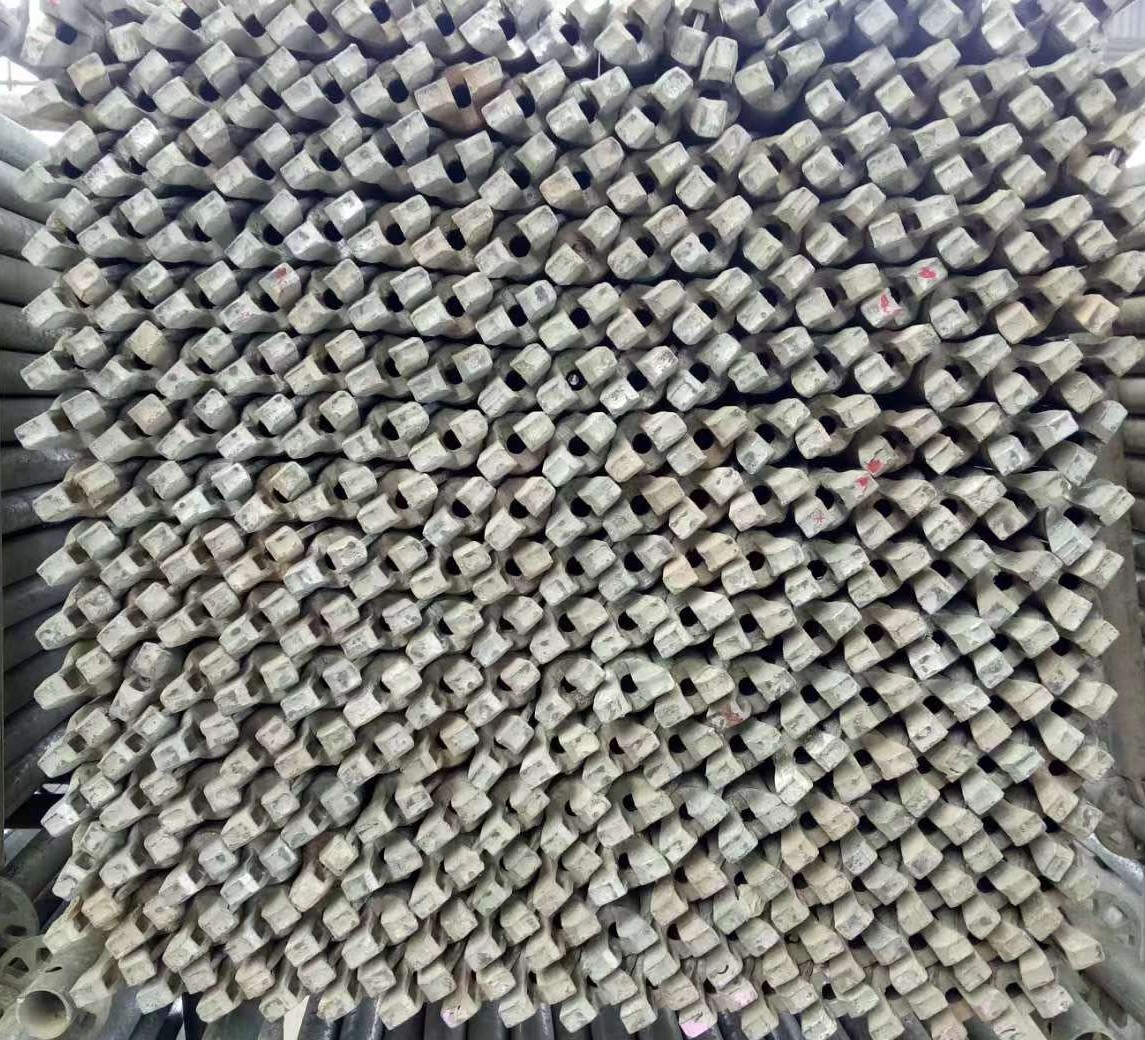NHsquare_steel: (1006, 46, 1105, 130), (799, 178, 890, 268), (934, 188, 1023, 273), (732, 115, 820, 200), (13, 123, 101, 206), (806, 44, 899, 121), (666, 193, 752, 276), (1058, 333, 1144, 416), (1005, 114, 1088, 199), (1054, 481, 1135, 568), (856, 254, 944, 334), (923, 334, 1013, 412), (998, 263, 1085, 343), (16, 259, 106, 336), (278, 44, 371, 118), (920, 471, 1006, 551), (994, 336, 1081, 415), (604, 205, 693, 282), (468, 207, 557, 284), (677, 122, 752, 213), (539, 206, 622, 288), (1007, 194, 1091, 275), (743, 181, 816, 273), (877, 38, 962, 117), (670, 266, 755, 345), (339, 195, 432, 267), (404, 200, 496, 272), (472, 132, 558, 209), (804, 112, 889, 189), (1020, 863, 1108, 937), (147, 112, 230, 190), (478, 60, 569, 131), (153, 44, 238, 120), (540, 138, 625, 214), (19, 324, 108, 396), (212, 120, 293, 199), (223, 191, 304, 270), (868, 117, 962, 185), (617, 67, 694, 150), (225, 46, 300, 131), (278, 119, 363, 194), (604, 142, 689, 217), (985, 468, 1070, 543), (850, 478, 937, 551), (988, 406, 1080, 475), (1040, 618, 1120, 697), (662, 405, 751, 476), (147, 190, 229, 267), (7, 390, 104, 455), (942, 51, 1032, 121), (20, 188, 94, 273), (283, 192, 369, 265), (542, 69, 634, 137), (154, 324, 232, 404), (668, 332, 745, 413), (351, 43, 440, 113), (854, 322, 937, 397), (932, 266, 1016, 340), (90, 320, 164, 404), (91, 259, 169, 338), (792, 469, 880, 539), (342, 113, 431, 182), (87, 120, 160, 204), (537, 278, 619, 352), (597, 345, 679, 419), (152, 261, 235, 334), (1078, 248, 1145, 338), (95, 52, 174, 128), (476, 407, 556, 482), (938, 121, 1019, 195), (78, 190, 159, 264), (602, 279, 683, 353), (1056, 543, 1124, 631), (727, 39, 825, 100), (891, 866, 975, 937), (867, 190, 960, 254), (540, 412, 618, 488), (608, 410, 687, 485), (741, 255, 813, 337), (980, 553, 1062, 625), (475, 341, 551, 418), (468, 281, 558, 346), (667, 468, 745, 543), (734, 400, 813, 474), (216, 394, 297, 466), (1062, 395, 1127, 484), (972, 620, 1057, 688), (220, 264, 301, 335), (160, 900, 241, 971), (532, 345, 615, 414), (971, 685, 1054, 754), (728, 466, 812, 534), (782, 597, 858, 672), (88, 396, 174, 462), (840, 672, 926, 738), (406, 135, 496, 198), (403, 340, 493, 403), (218, 587, 299, 657), (960, 870, 1041, 940), (276, 393, 359, 461), (773, 674, 864, 736), (100, 468, 188, 532), (731, 328, 815, 395), (924, 401, 999, 476), (795, 324, 869, 400), (158, 391, 234, 465), (543, 475, 619, 549), (795, 396, 880, 462), (603, 476, 684, 545), (222, 527, 304, 595), (25, 54, 112, 118), (524, 3, 612, 66), (408, 273, 493, 338), (210, 332, 299, 394), (576, 915, 662, 979), (348, 532, 430, 599), (907, 617, 994, 680), (904, 687, 987, 753), (918, 538, 991, 613), (1073, 45, 1145, 121), (470, 595, 541, 672), (797, 261, 881, 326), (32, 465, 120, 527), (354, 476, 442, 538), (348, 268, 433, 332), (406, 409, 491, 473), (158, 523, 243, 587), (780, 804, 860, 872), (855, 410, 941, 473), (28, 648, 114, 711), (288, 261, 362, 334), (102, 522, 178, 593), (594, 1, 677, 66), (159, 650, 242, 715), (900, 812, 983, 877), (710, 665, 797, 727), (1050, 682, 1118, 761), (277, 335, 365, 396), (341, 340, 429, 401), (343, 401, 428, 464), (846, 610, 931, 673), (37, 710, 114, 779), (601, 538, 679, 606), (101, 701, 168, 780), (821, 930, 912, 988), (34, 523, 119, 585), (398, 905, 480, 969), (417, 60, 503, 121), (765, 874, 851, 935), (460, 1, 557, 55), (1044, 743, 1112, 820), (963, 745, 1041, 812), (1033, 804, 1100, 882), (849, 542, 929, 607), (105, 645, 170, 725), (404, 542, 492, 601), (271, 720, 359, 779), (481, 481, 555, 551), (594, 596, 668, 666), (237, 465, 312, 534), (131, 957, 217, 1017), (718, 537, 806, 595), (218, 788, 299, 851), (408, 792, 489, 855), (833, 868, 908, 936), (344, 901, 420, 968), (404, 720, 481, 786), (887, 930, 970, 991), (1081, 185, 1145, 264), (220, 845, 299, 909), (215, 659, 299, 719), (479, 785, 549, 857), (538, 790, 610, 860), (658, 792, 728, 864), (716, 799, 796, 862), (964, 809, 1044, 872), (422, 478, 495, 547), (291, 837, 360, 910), (226, 896, 299, 965), (700, 727, 781, 789), (96, 830, 184, 887), (33, 780, 118, 839), (784, 544, 866, 605), (158, 586, 240, 647), (41, 895, 123, 956), (396, 1, 492, 53), (275, 661, 358, 721), (581, 727, 660, 790), (438, 967, 517, 1030), (677, 977, 756, 1040), (468, 657, 539, 727), (902, 743, 970, 816), (841, 805, 914, 873), (403, 603, 483, 665), (339, 665, 419, 727), (407, 850, 481, 917), (318, 961, 395, 1025), (170, 465, 252, 525), (951, 931, 1033, 991), (342, 599, 420, 662), (534, 846, 603, 917), (471, 714, 533, 793), (159, 842, 238, 904), (652, 668, 732, 729), (530, 596, 606, 660), (339, 724, 415, 788), (220, 719, 297, 782), (260, 960, 337, 1023), (695, 31, 739, 141), (410, 662, 481, 730), (473, 542, 552, 603), (654, 593, 733, 654), (279, 789, 362, 847), (762, 925, 843, 984), (537, 660, 605, 730), (701, 923, 776, 986), (103, 896, 178, 959), (284, 905, 360, 967), (379, 967, 455, 1029), (283, 539, 367, 595), (51, 826, 112, 903), (474, 847, 543, 915), (353, 782, 431, 842), (77, 951, 155, 1011), (828, 747, 913, 802), (276, 596, 358, 653), (645, 730, 724, 789), (18, 1, 85, 70), (102, 586, 173, 651), (163, 777, 241, 836), (97, 778, 179, 834), (925, 984, 1007, 1040), (467, 909, 541, 971), (541, 542, 612, 606), (662, 534, 739, 593), (40, 587, 117, 646), (153, 720, 242, 771), (594, 793, 675, 849), (496, 970, 574, 1028), (742, 979, 817, 1039), (589, 850, 669, 906), (776, 739, 847, 802), (518, 726, 599, 781), (525, 913, 606, 968), (653, 868, 728, 927), (557, 972, 633, 1030), (295, 470, 378, 523), (863, 987, 946, 1040), (197, 965, 274, 1022), (714, 604, 798, 656), (344, 842, 422, 898), (978, 1, 1064, 51), (1018, 939, 1104, 989), (208, 2, 292, 52), (642, 922, 717, 978), (274, 2, 355, 53), (800, 985, 875, 1040), (595, 667, 675, 718), (145, 1, 227, 49), (331, 1, 416, 47), (619, 979, 698, 1028), (1047, 1, 1129, 45), (671, 1, 721, 70), (99, 1, 147, 62), (852, 1, 919, 41), (913, 1, 980, 40)
